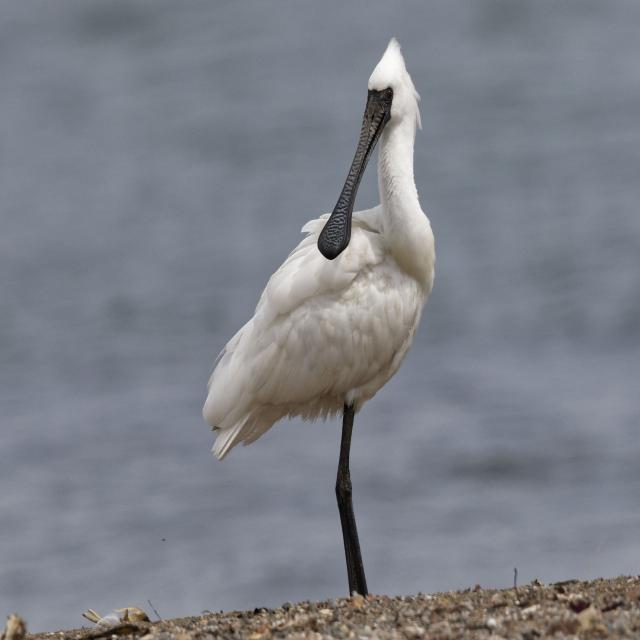Black-faced spoonbill: (203, 39, 434, 594)
